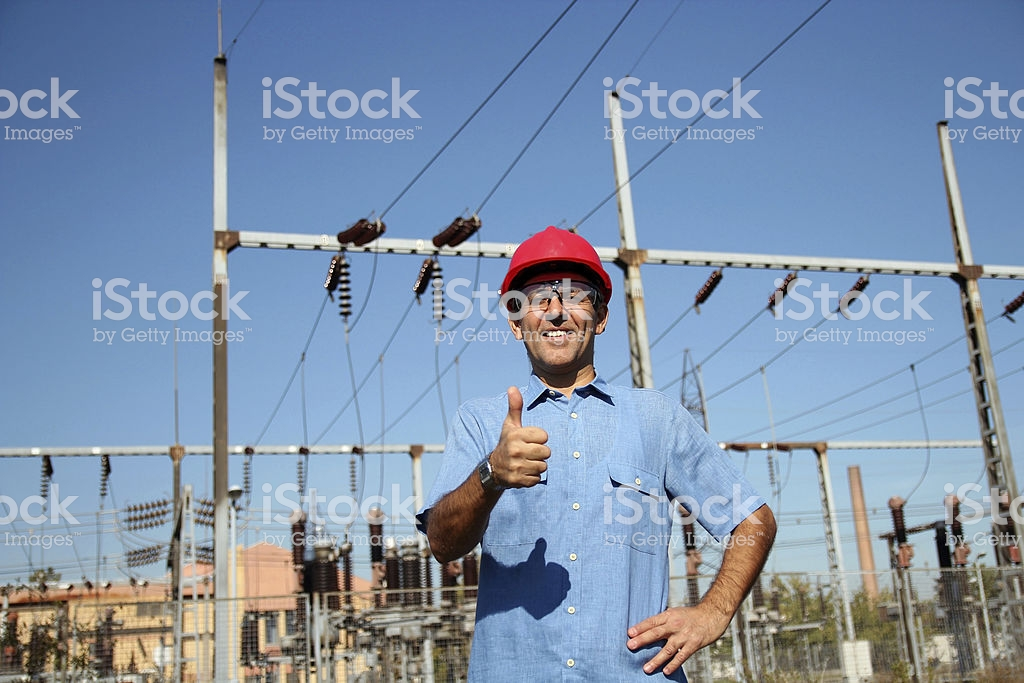thumbsup: (504, 386, 553, 488)
